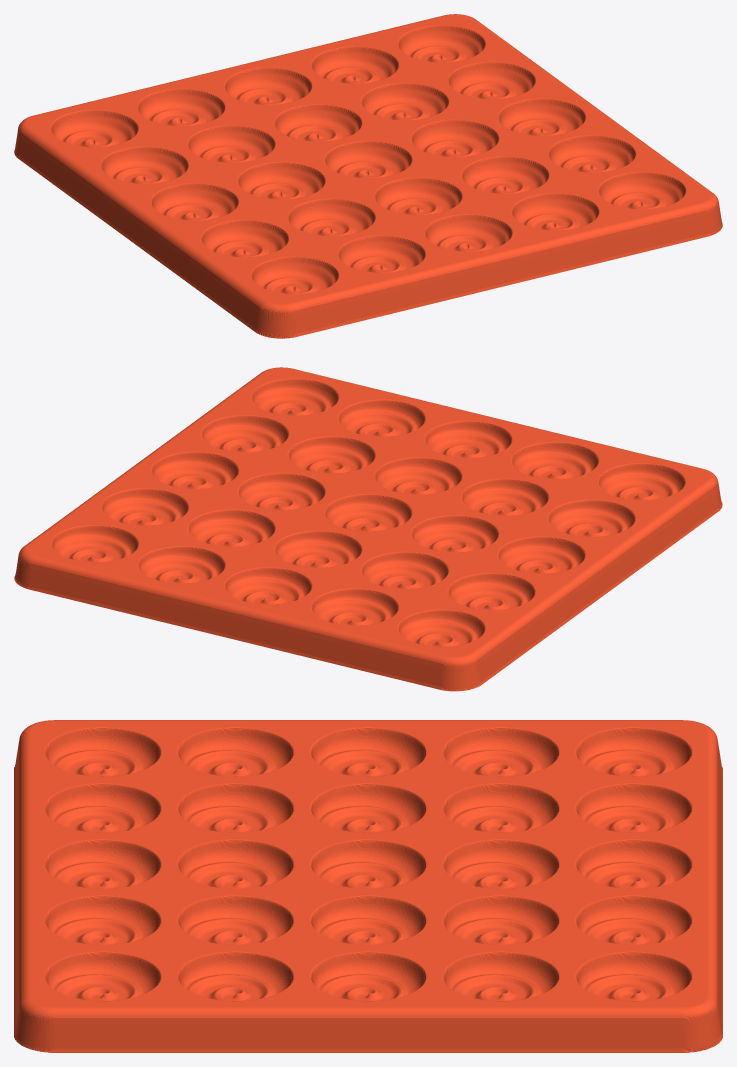
Rendered from mold.glb.
The picture shows the model from 3 angles, top to bottom: view 1: azimuth 30°, elevation 25°; view 2: azimuth 150°, elevation 25°; view 3: azimuth 270°, elevation 25°; orthographic projection. The views are drawn at different scales.
Visible parts, largest first — view 1: geometry_0; view 2: geometry_0; view 3: geometry_0.
Boxes of the visible parts, left/top/right/bottom form: geometry_0: left=14, top=14, right=722, bottom=338; geometry_0: left=14, top=367, right=722, bottom=691; geometry_0: left=14, top=720, right=722, bottom=1052.
Bounding box in the file's own units: 0.1584 × 0.00958 × 0.1584.
